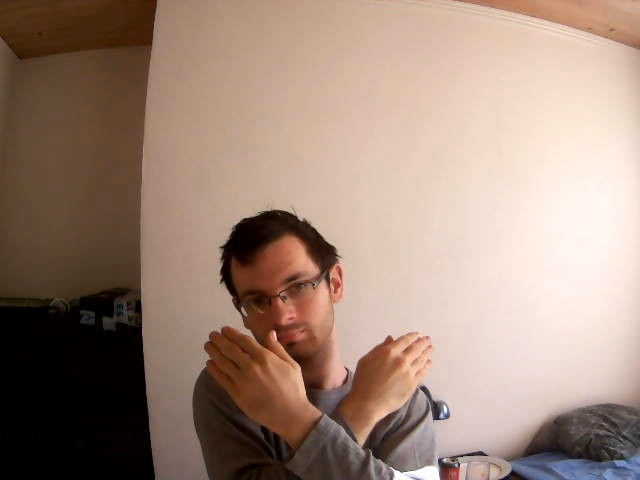butterfly: (199, 321, 438, 435)
